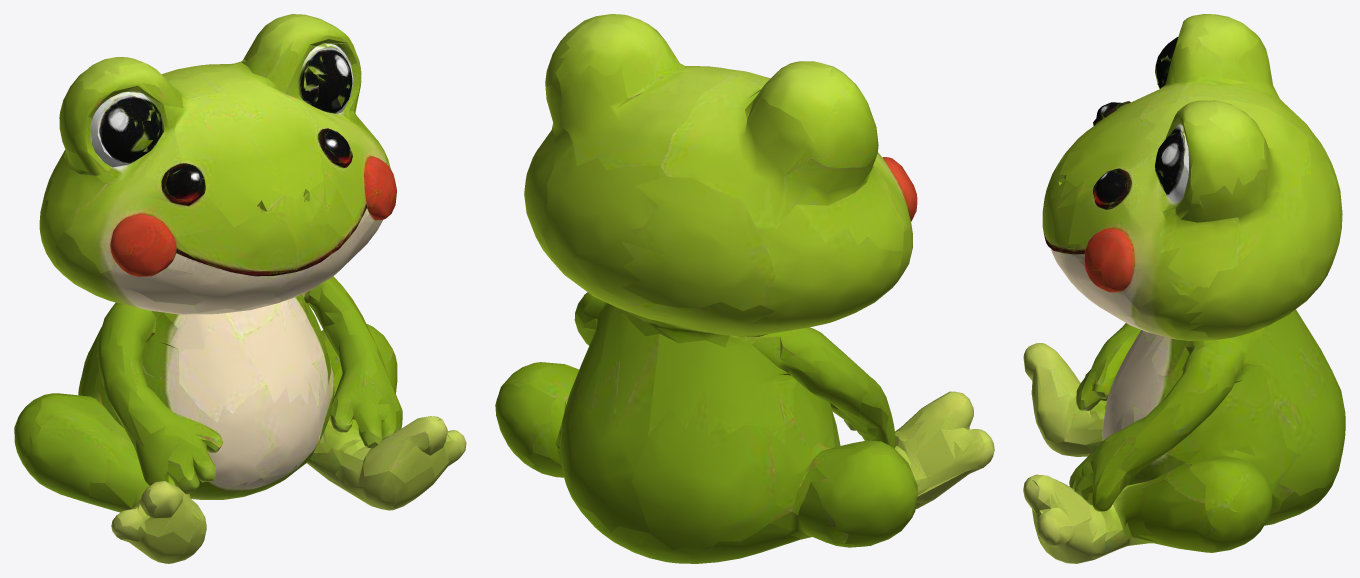
Rendered from frog.glb.
The picture shows the model from 3 angles, left to right: view 1: azimuth 30°, elevation 25°; view 2: azimuth 150°, elevation 25°; view 3: azimuth 270°, elevation 25°; orthographic projection. The views are drawn at different scales.
Visible parts, largest first — view 1: mesh_node; view 2: mesh_node; view 3: mesh_node.
Part boxes in pixels (x1,y1,x2,y2): mesh_node: (14,14,466,563); mesh_node: (495,14,994,563); mesh_node: (1023,14,1345,563).
Bounding box in the file's own units: 1.67 × 1.9 × 1.25.
1 material, 1 textured.
